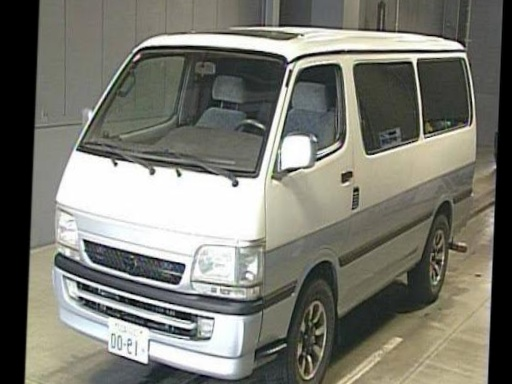van: (40, 14, 483, 384)
